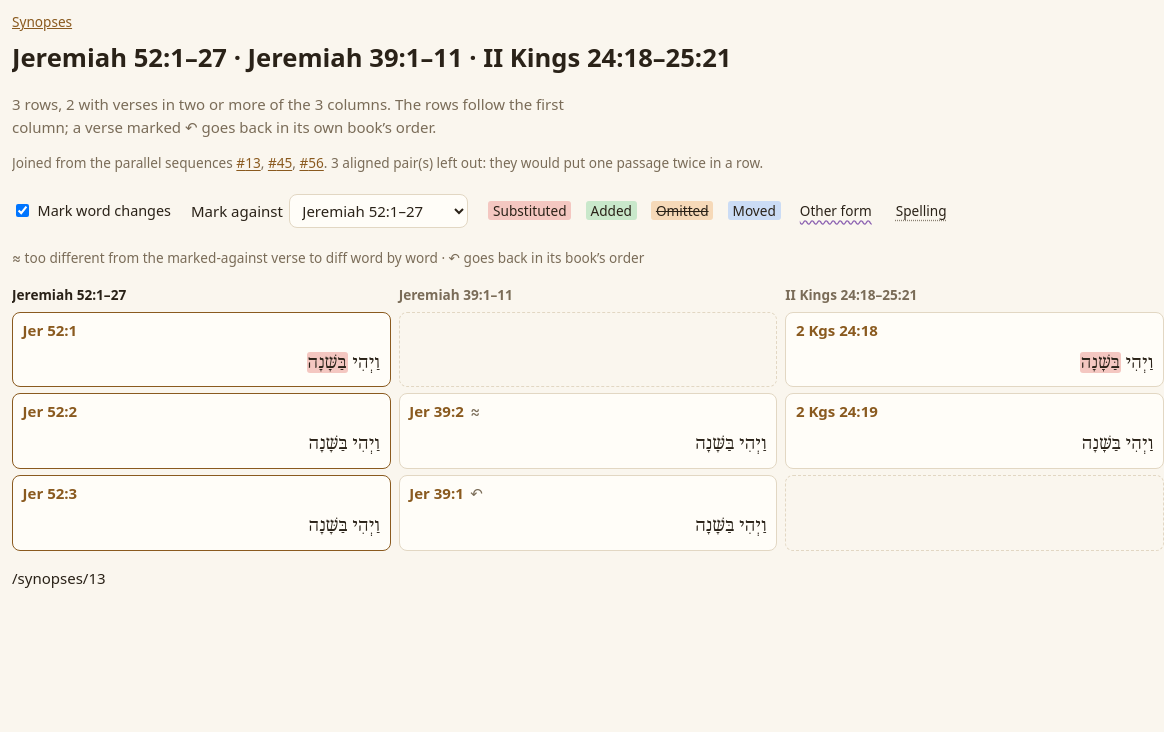
SynopsisPage › puts the column marked against in the URL
Check: the heading "Jeremiah 52:1–27 · Jeremiah 39:1–11 · II Kings 24:18–25:21" is shown, box [12,40,732,75]
Select "II Kings 24:18–25:21" in the dropdown labelled "Mark against": (379,211) [289,194,468,228]
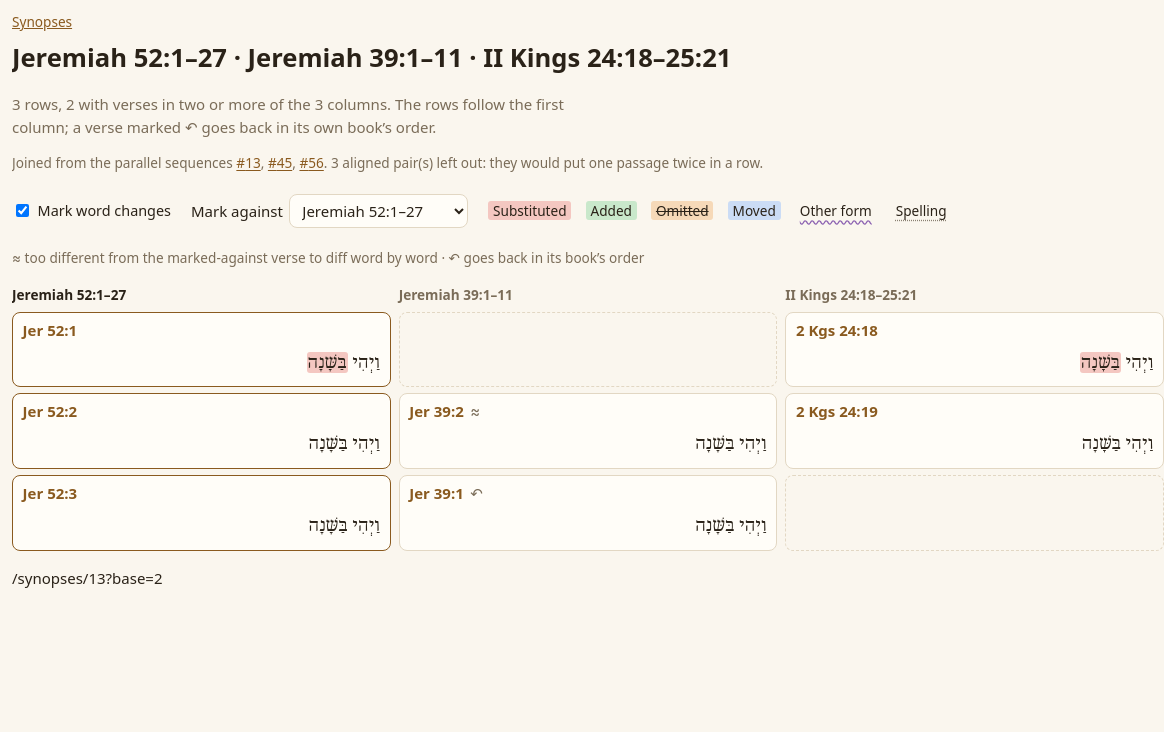
Check: the text with test id "loc" reads "/synopses/13?base=2", box [12,568,162,588]
